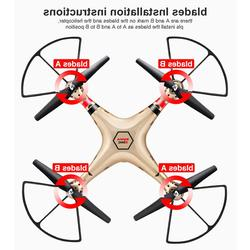drone: (21, 35, 229, 245)
